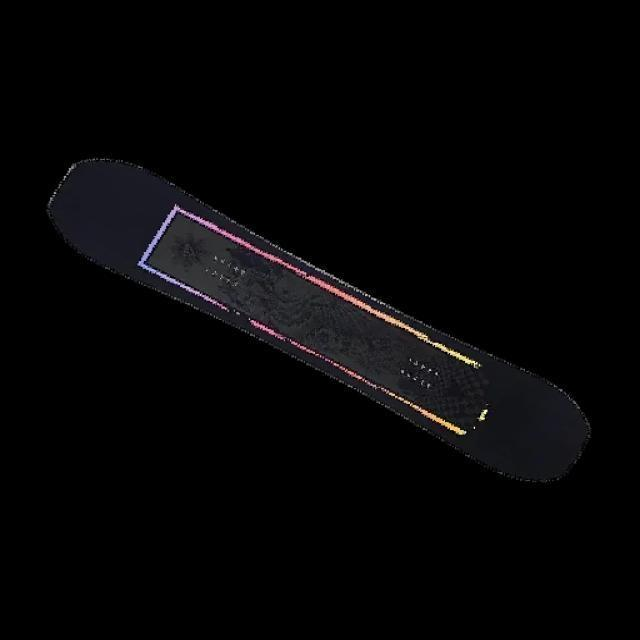Snowboard: (45, 155, 592, 484)
